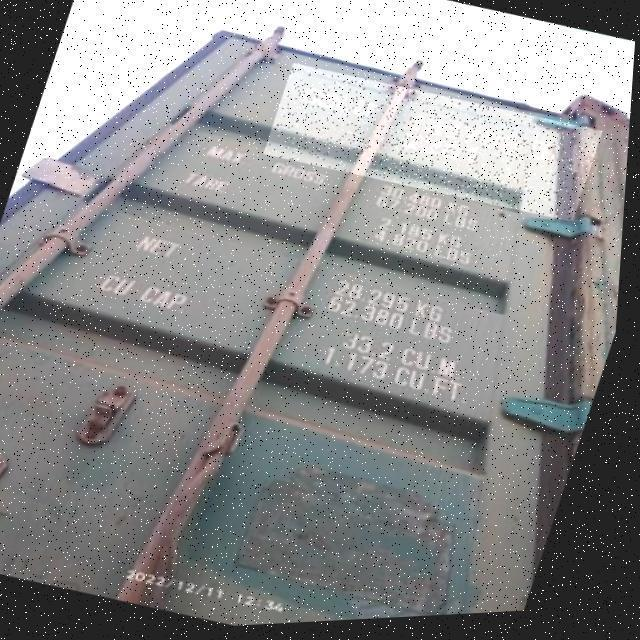container_number_h: (261, 53, 609, 241)
